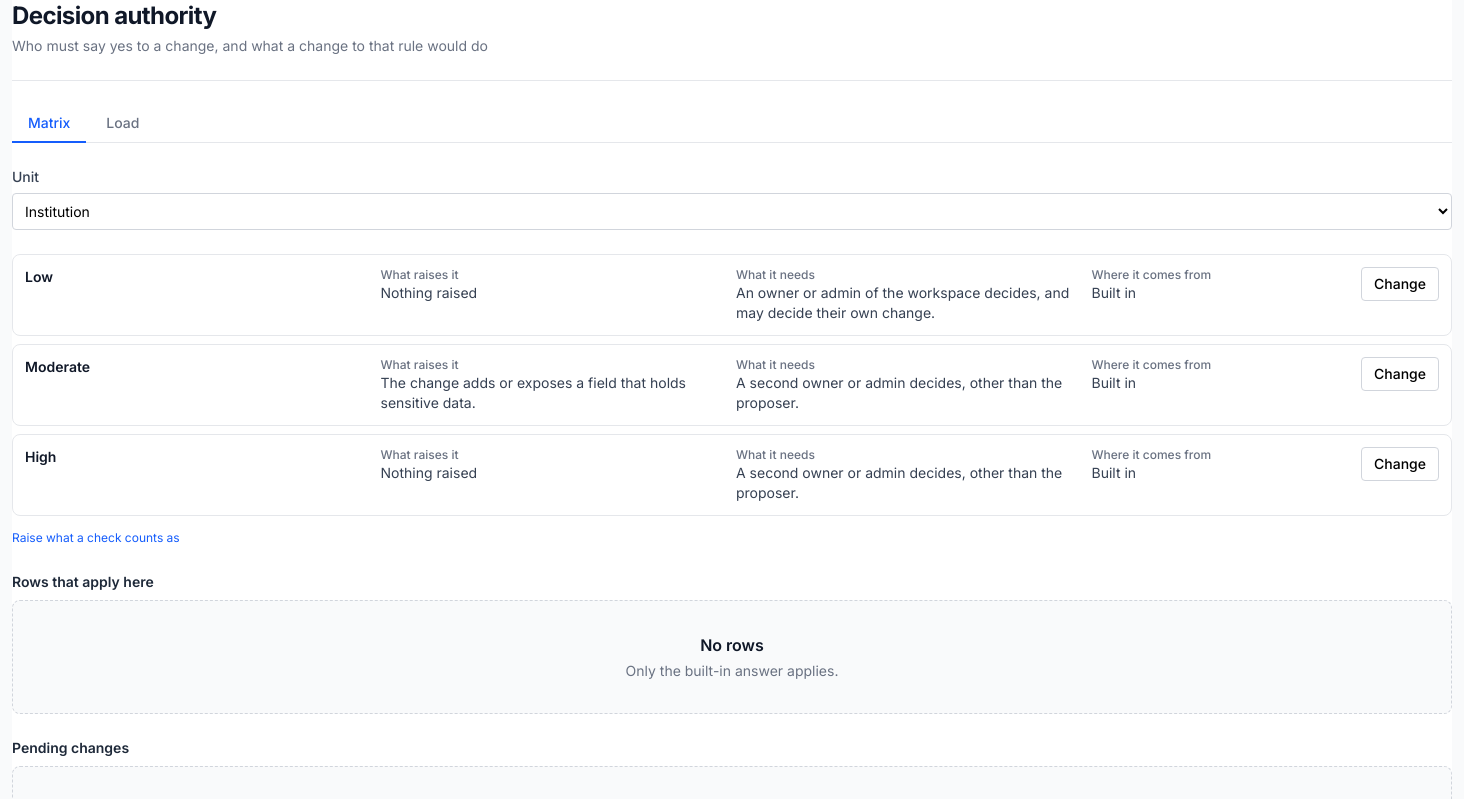
it: Decision authority › names the proposals that would have no approver
Click the button "Change" in the row of "Moderate". click: (1400, 374)
box: [1361,357,1439,391]
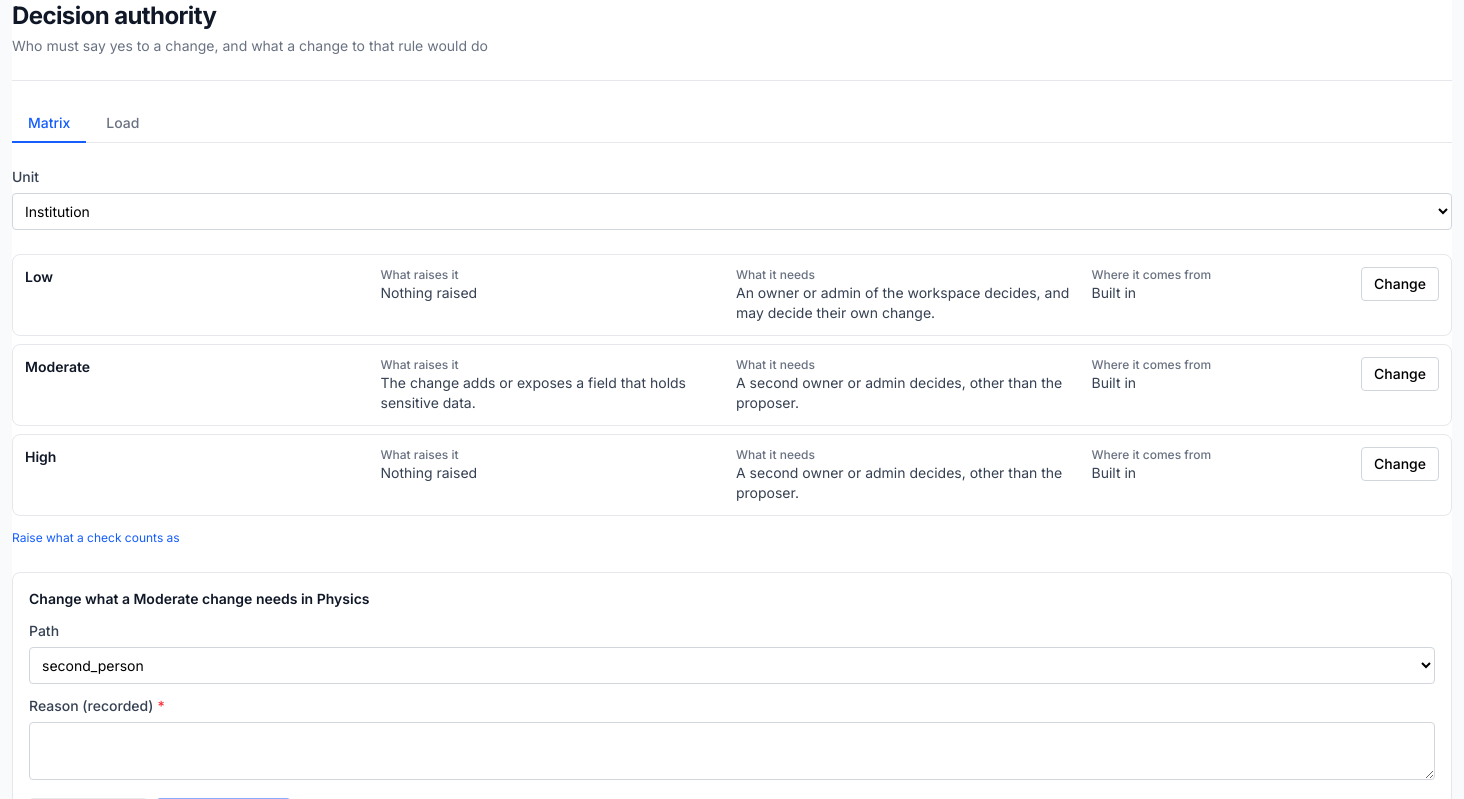
Select "approver" in the dropdown labelled "Path". click: (732, 666)
box: [29,647,1435,684]
(page scrolled)
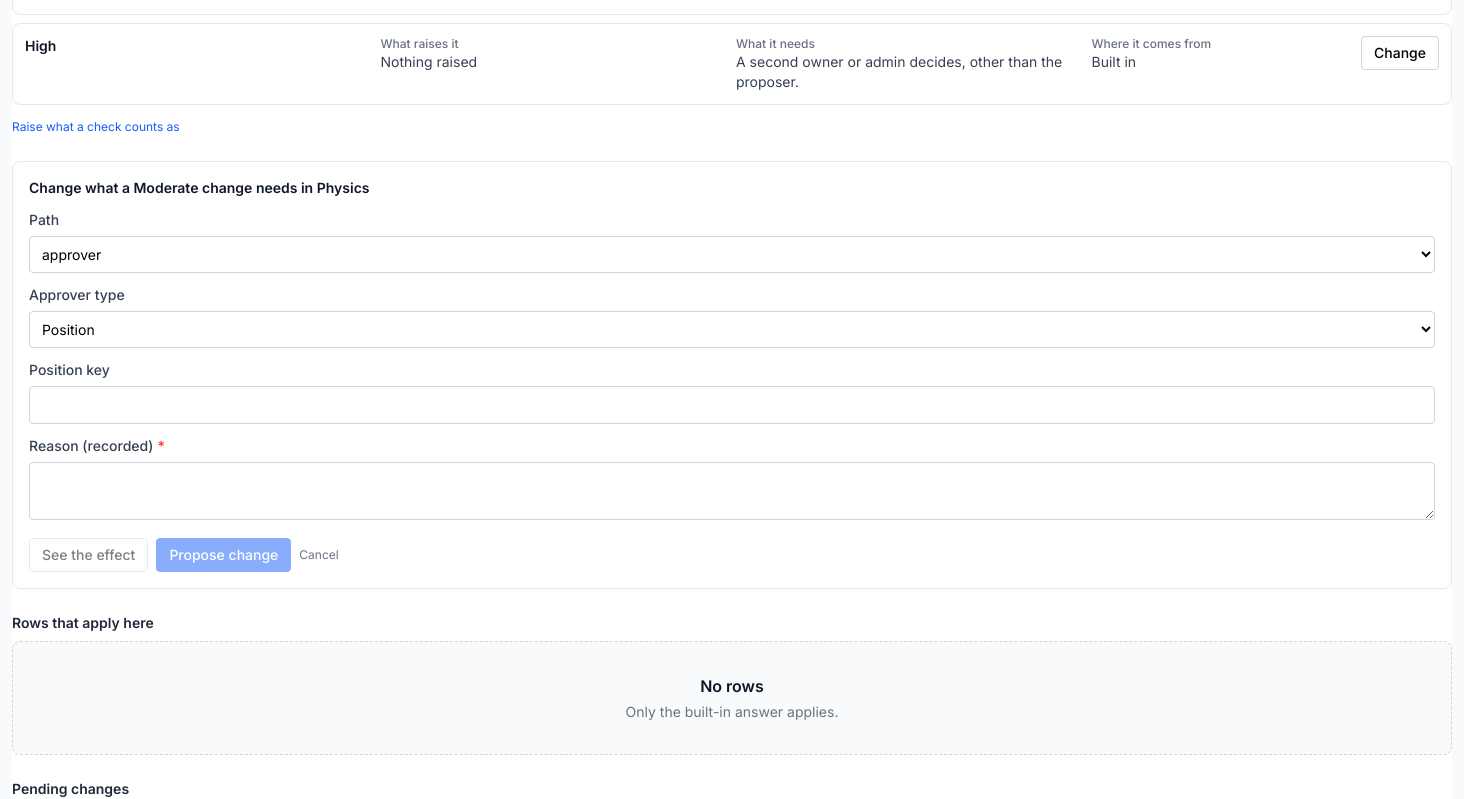
Type "vacant" into the field labelled "Position key". click: (732, 405)
box: [29,386,1435,424]
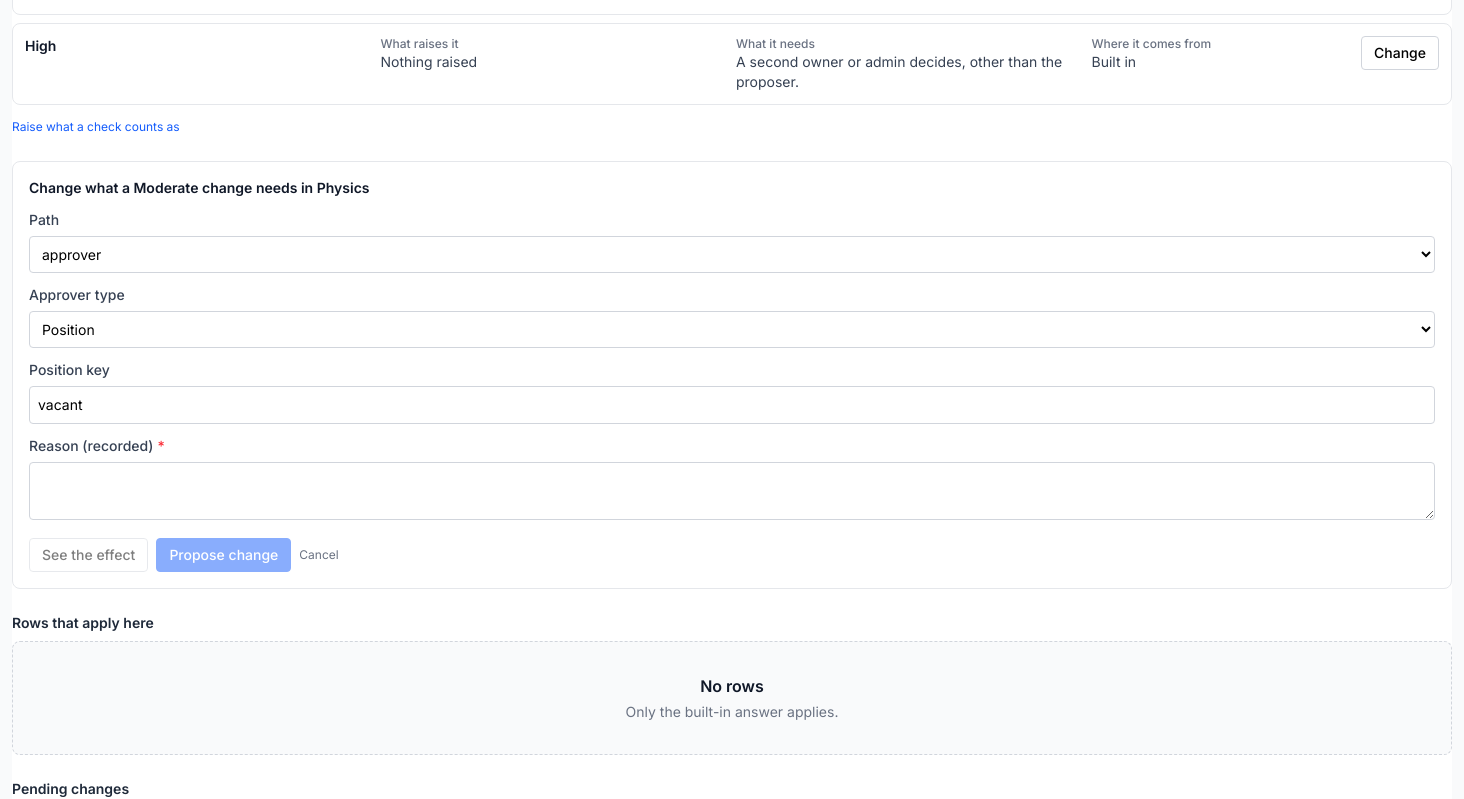
Type "Privacy review" into the text box labelled "Reason (recorded)*". click: (732, 491)
box: [29,462,1435,520]
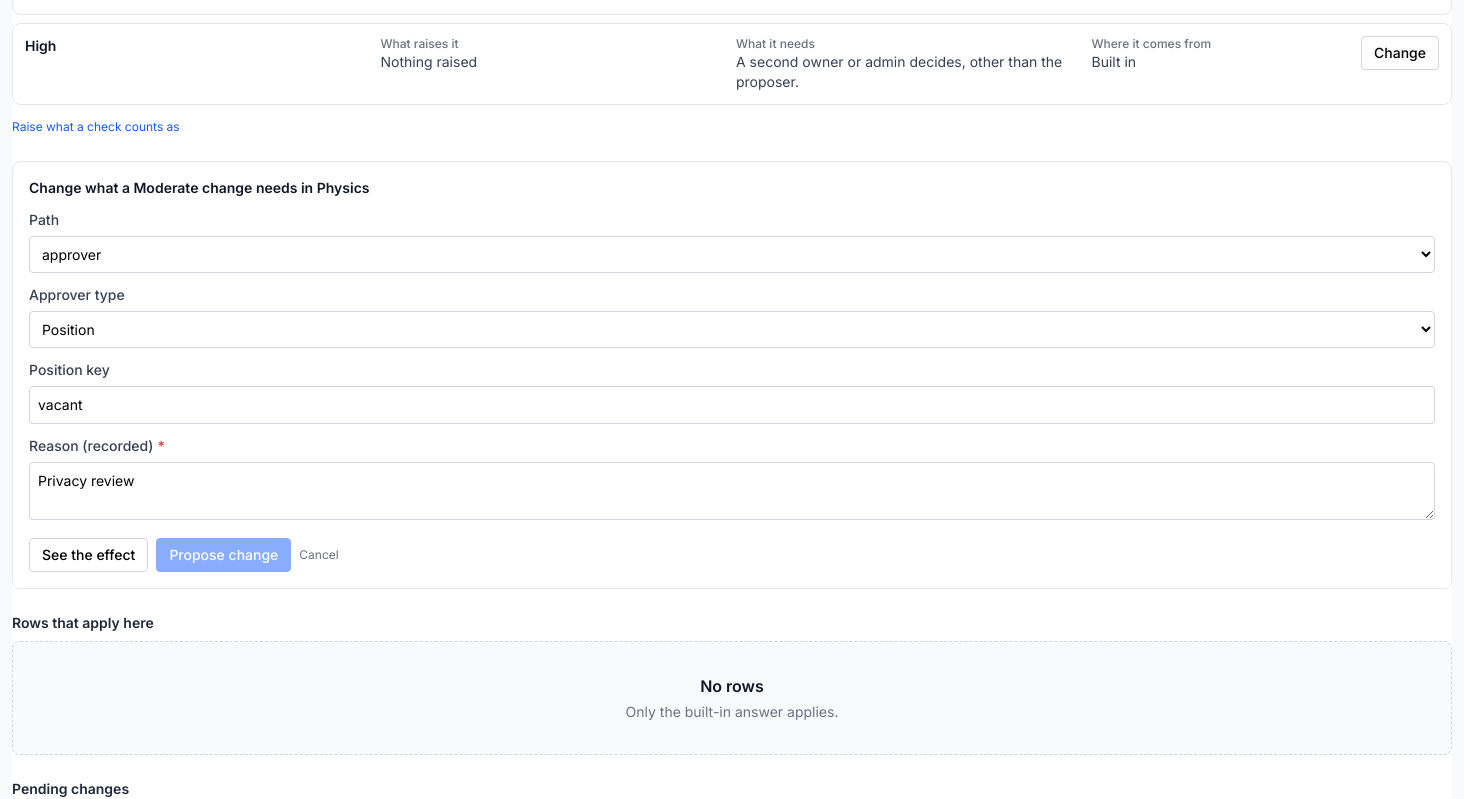
Click the button "See the effect". click: (89, 555)
box: [29,538,148,572]
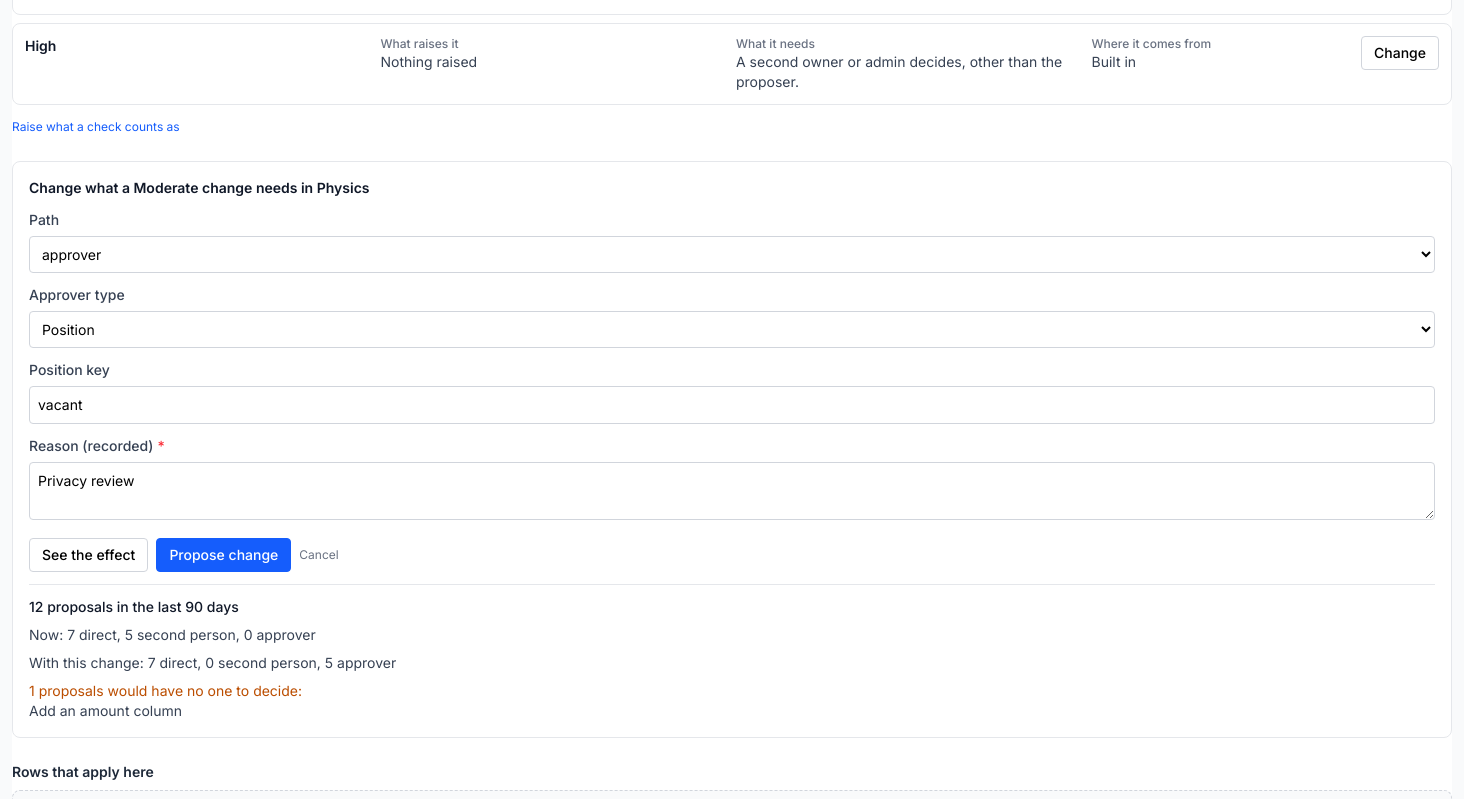
Check: the text "1 proposals would have no one to decide:" is shown, box [29,682,302,699]
Check: the list item "Add an amount column" is shown, box [29,702,182,719]
